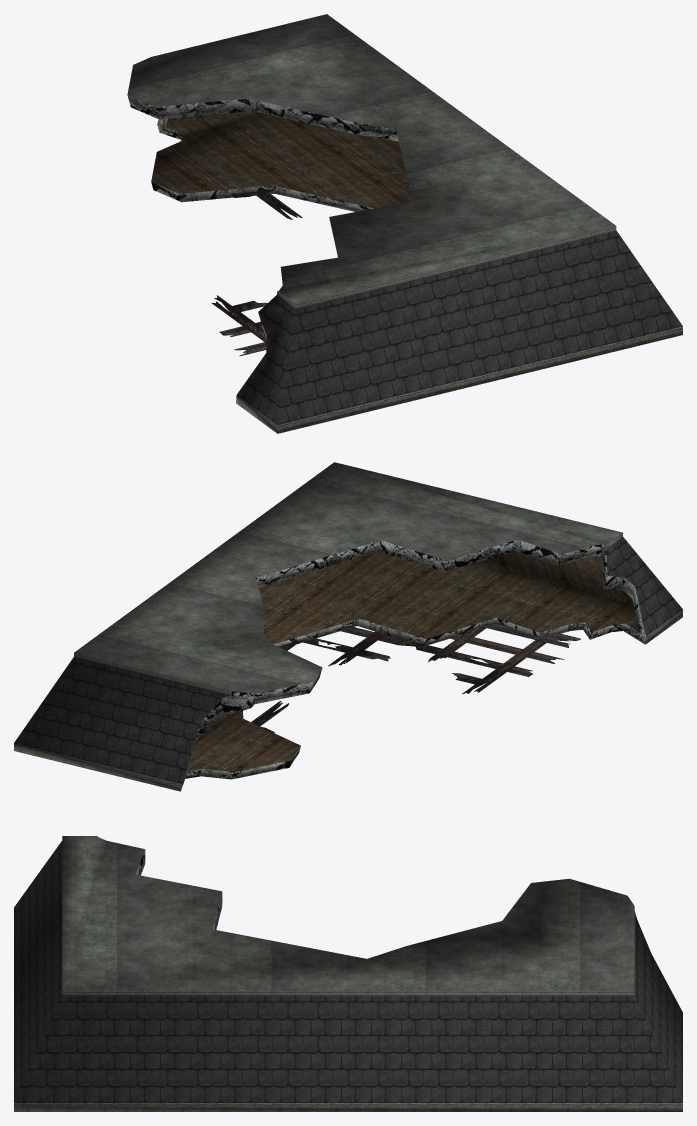
The model's file is RoofClassic01a.dae.
3 renders of one model, top to bottom at view 1: azimuth 30°, elevation 25°; view 2: azimuth 150°, elevation 25°; view 3: azimuth 270°, elevation 25°, orthographic. The views are drawn at different scales.
Visible parts, largest first — view 1: TTR_SMRoofClassic01a; view 2: TTR_SMRoofClassic01a; view 3: TTR_SMRoofClassic01a.
Part boxes in pixels (<box>): TTR_SMRoofClassic01a: <box>127,14,682,433</box>; TTR_SMRoofClassic01a: <box>14,462,682,791</box>; TTR_SMRoofClassic01a: <box>14,836,682,1111</box>.
Bounding box in the file's own units: 23.04 × 33.29 × 5.52.
6 materials, 6 textured.
